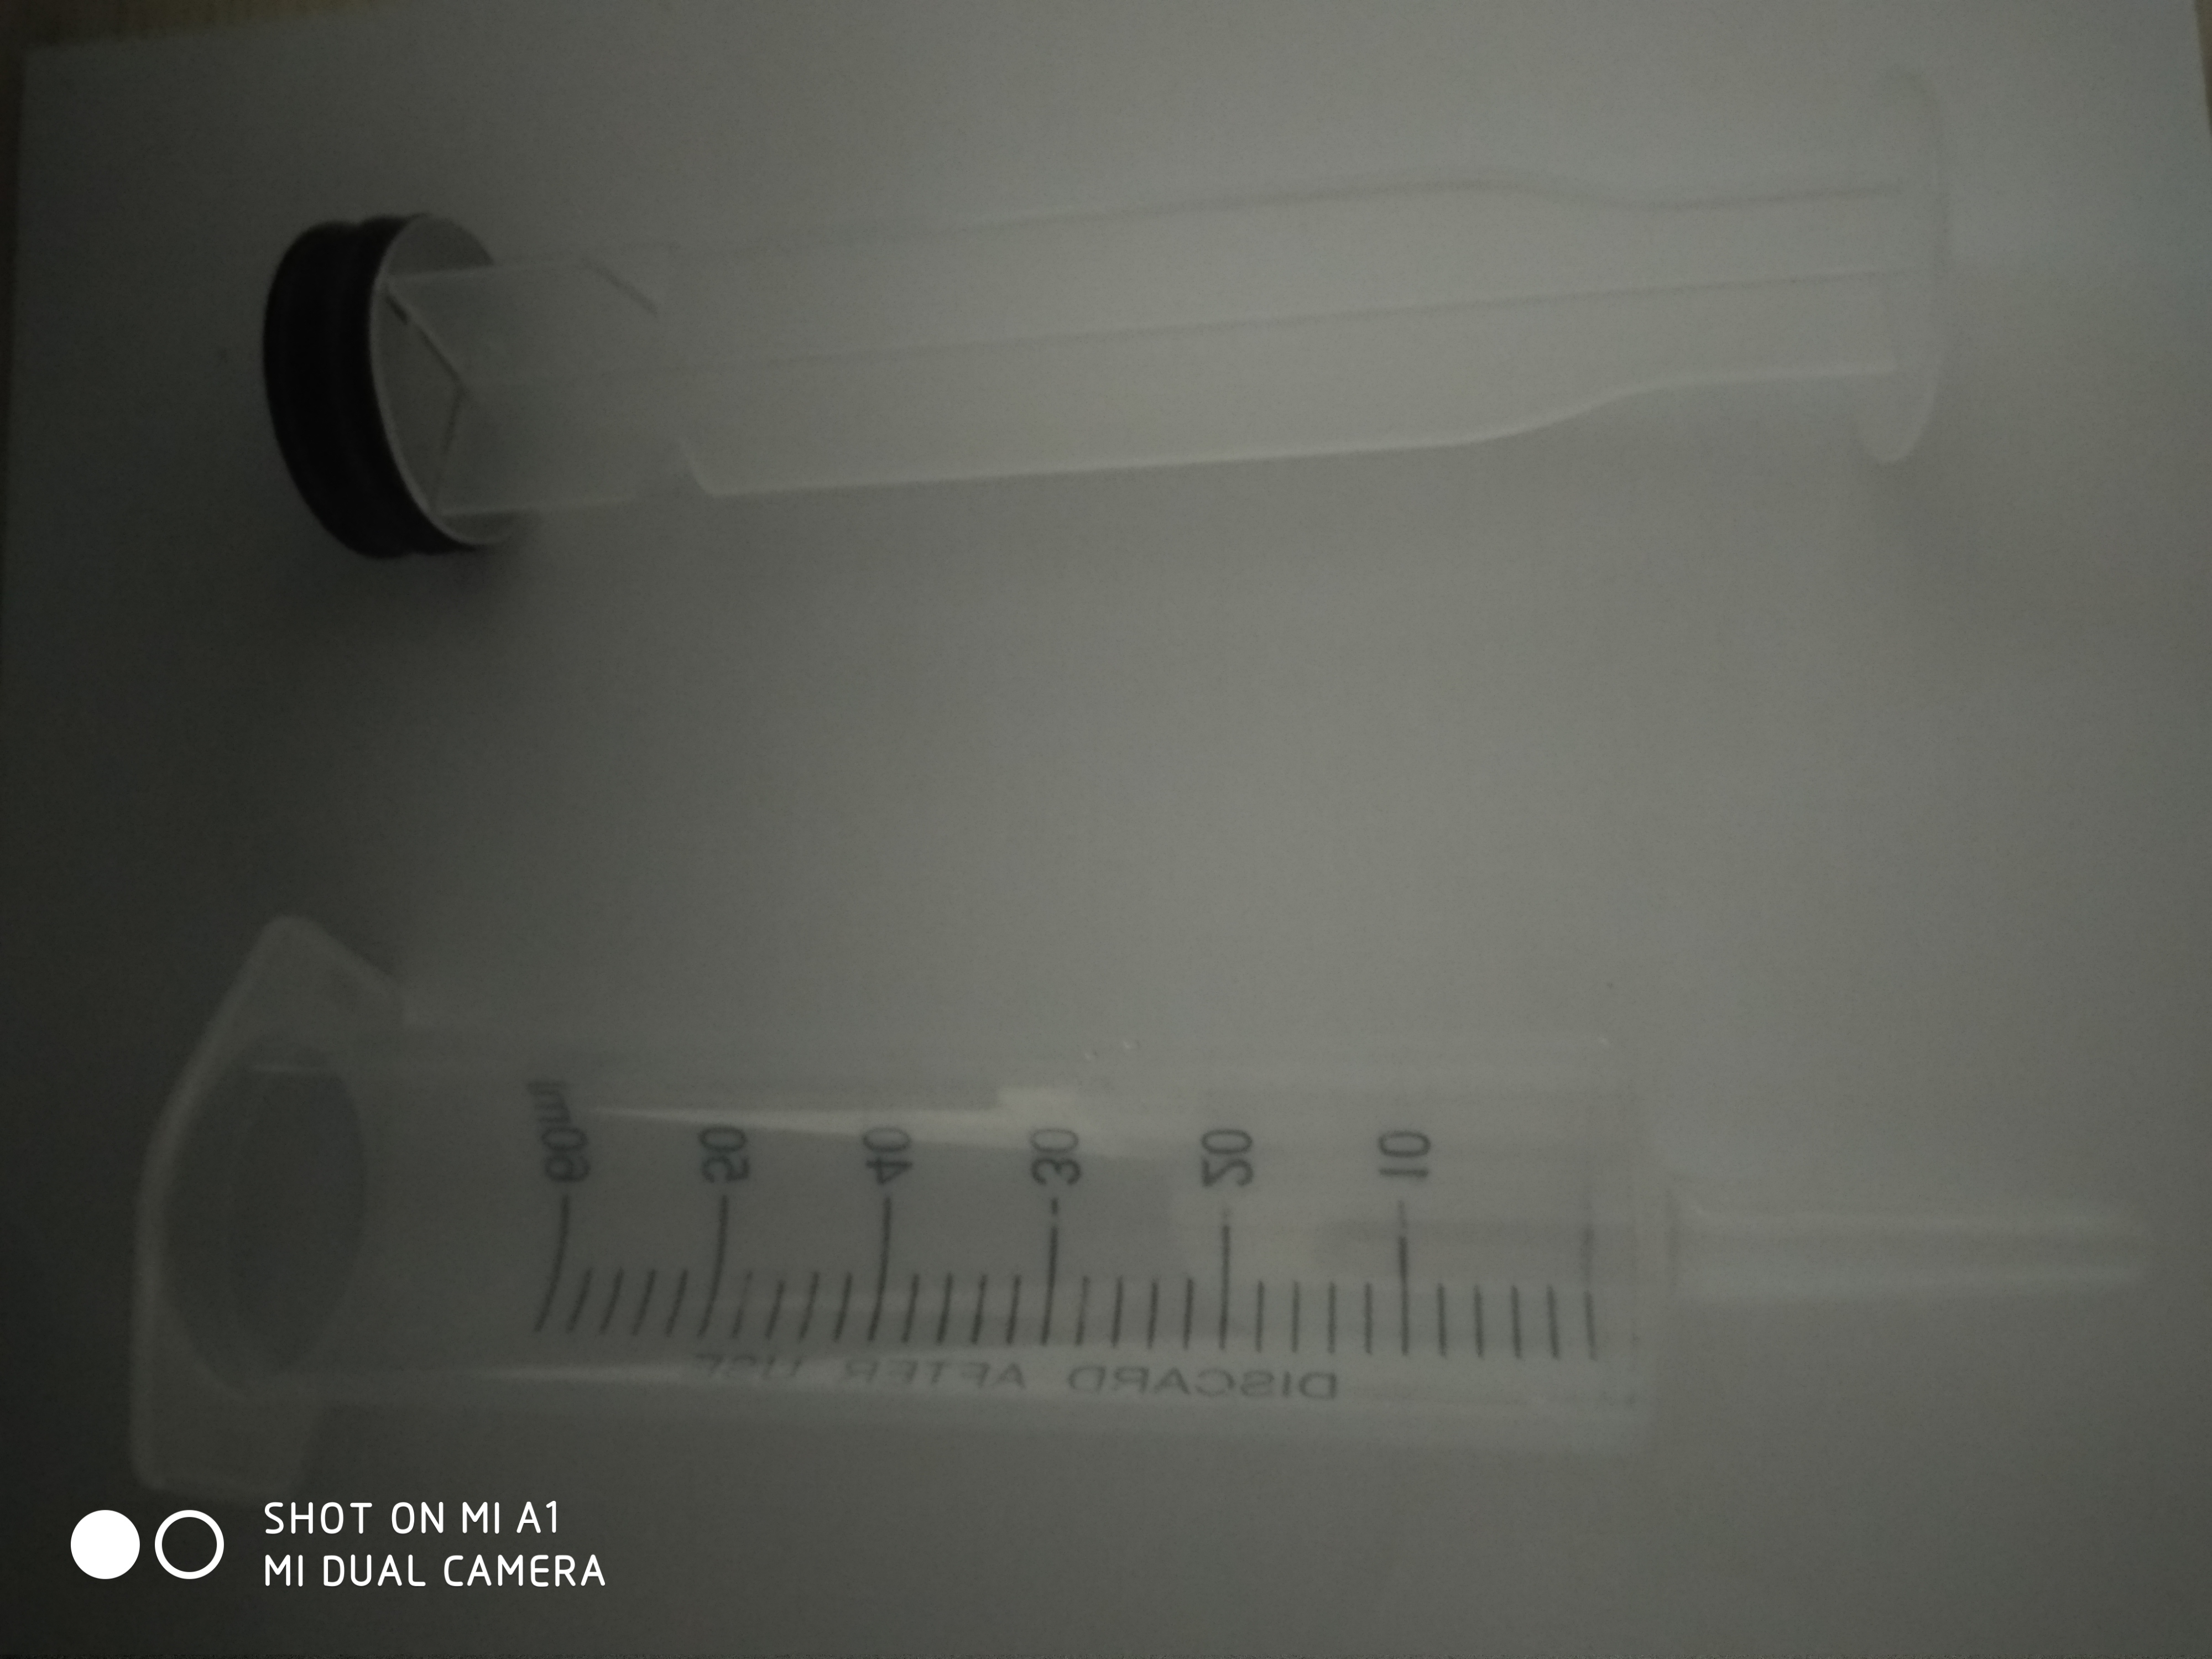plunger: (256, 64, 1987, 565)
syringe: (120, 896, 2165, 1527)
